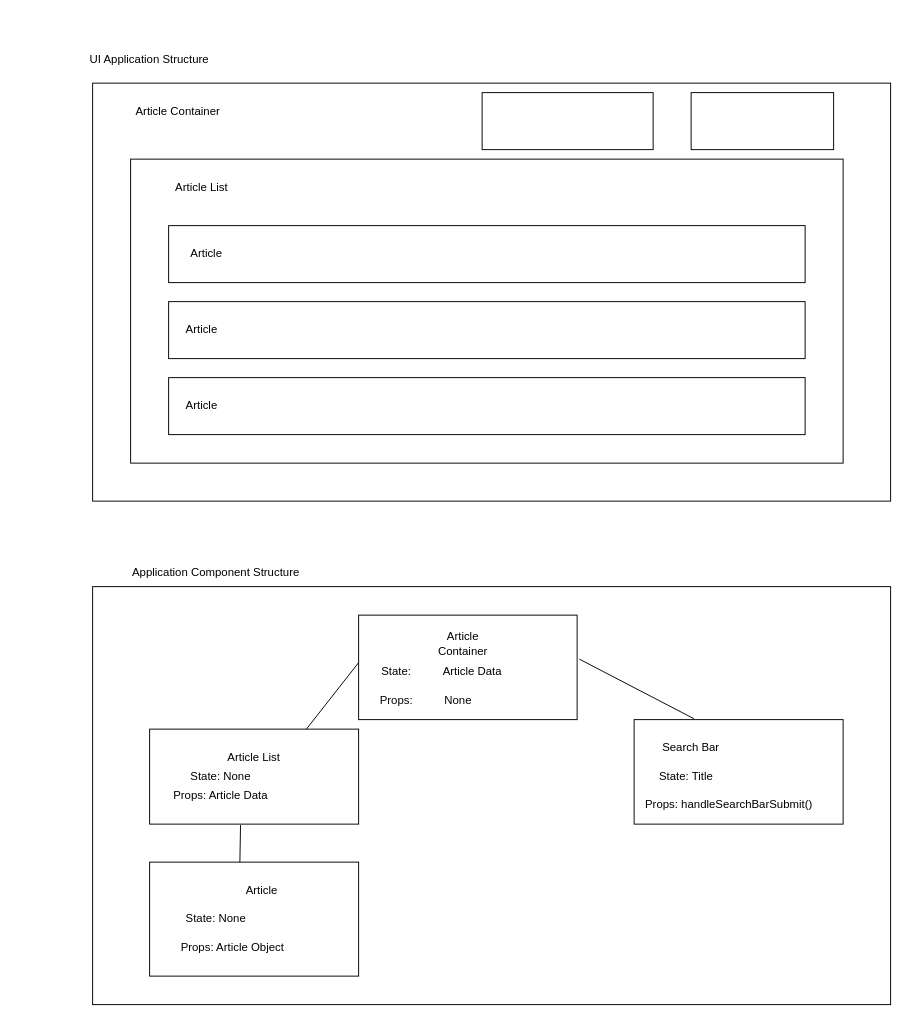
This 907x1021 diagram has some shape labels left out. The centre of each missing label's shape, as x and y in pixels:
"Button Sort by most popular" goes at pixel 762 121.
"Search Bar (by title/type etc)" goes at pixel 567 121.
